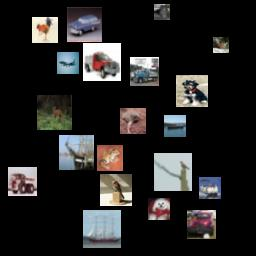airplane: (57, 52, 79, 74)
automobile: (67, 7, 102, 42), (187, 210, 216, 239)
bird: (154, 153, 192, 191), (100, 174, 132, 206), (32, 17, 58, 43)
cat: (154, 4, 170, 20)
deer: (37, 95, 72, 130), (213, 37, 229, 53)
dog: (176, 75, 208, 107), (148, 198, 170, 220)
frog: (97, 145, 123, 171), (120, 108, 146, 134)
ship: (83, 210, 121, 248), (59, 135, 94, 170), (164, 115, 186, 137), (199, 177, 221, 199)
truck: (83, 43, 121, 81), (8, 167, 37, 196), (130, 57, 159, 86)
